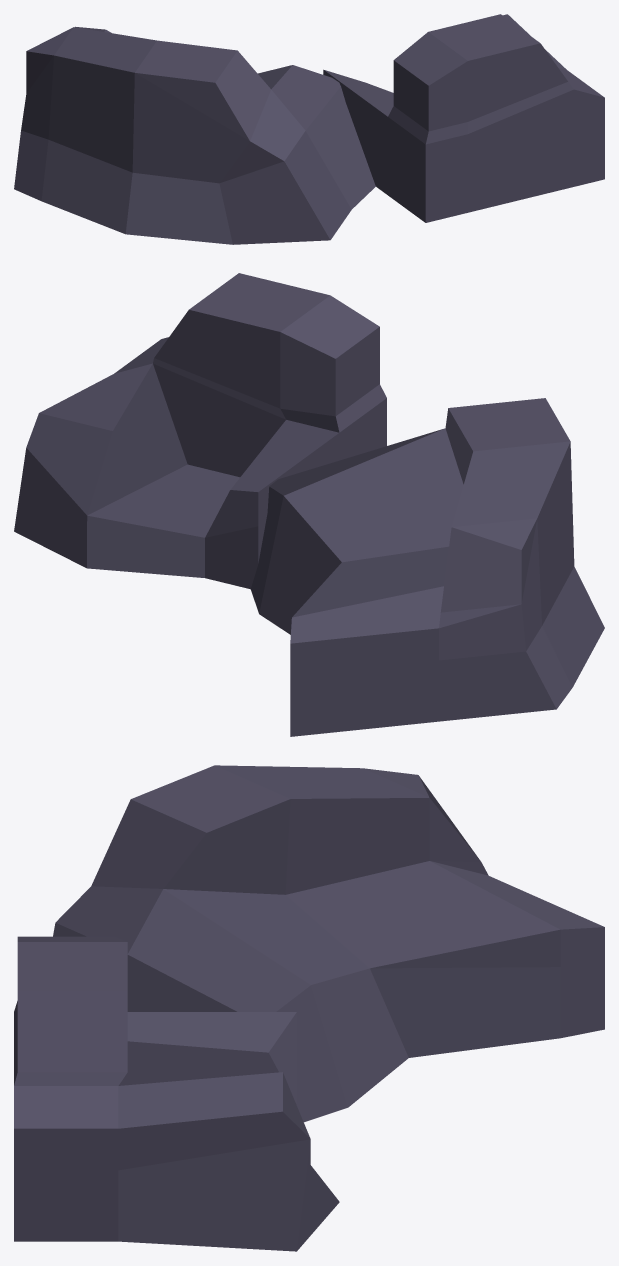
Rendered from RockKing.fbx.
3 views of the same model, one above another, from view 1: azimuth 30°, elevation 25°; view 2: azimuth 150°, elevation 25°; view 3: azimuth 270°, elevation 25° (orthographic). The views are drawn at different scales.
Visible parts, largest first — view 1: pCube106, pCube105; view 2: pCube106, pCube105; view 3: pCube106, pCube105.
Part boxes in pixels (x1,y1,x2,y2): pCube106: (14,26,375,244); pCube105: (323,14,604,222); pCube106: (250,398,604,736); pCube105: (14,273,386,589); pCube106: (53,765,604,1122); pCube105: (14,936,339,1251).
Size of the model in its own units: 949 by 294 by 752.
